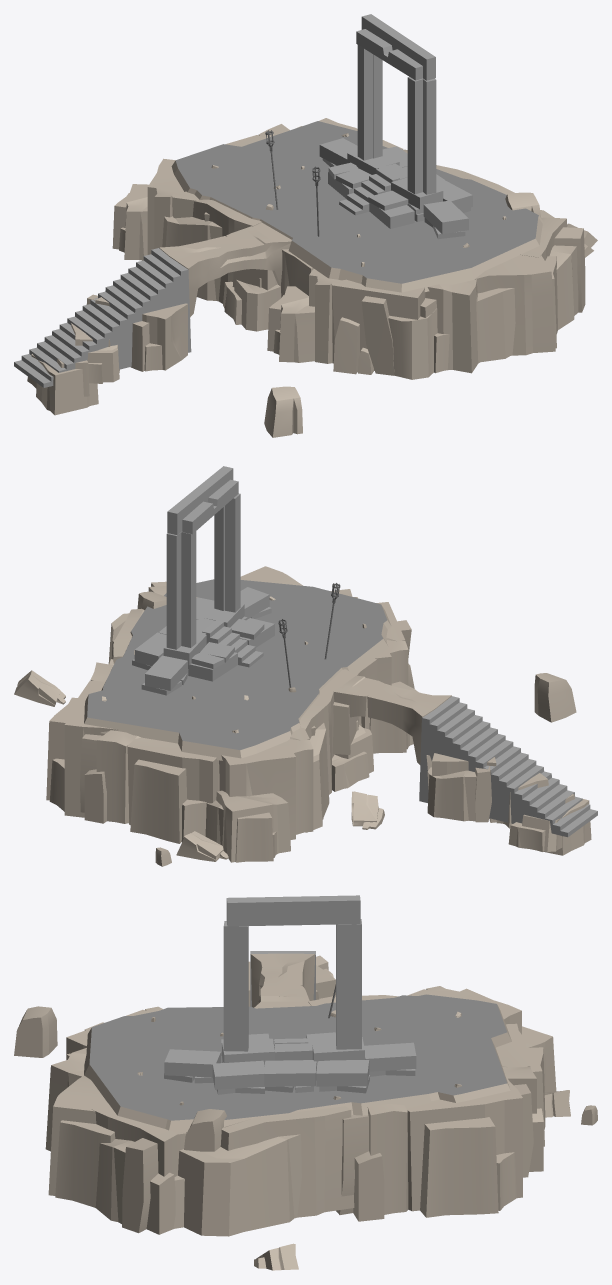
File: Portal_Parcel.fbx
3 views of the same model, one above another, from view 1: azimuth 30°, elevation 25°; view 2: azimuth 150°, elevation 25°; view 3: azimuth 270°, elevation 25° (orthographic). The views are drawn at different scales.
Parts seen in each view (by area): view 1: pCube71; view 2: pCube71; view 3: pCube71.
Boxes of the visible parts, box(x1,y1,x2,y2) form: pCube71: box(14, 14, 597, 437); pCube71: box(14, 466, 597, 866); pCube71: box(14, 895, 597, 1270).
Bounding box in the file's own units: 4265 × 1974 × 3454.
